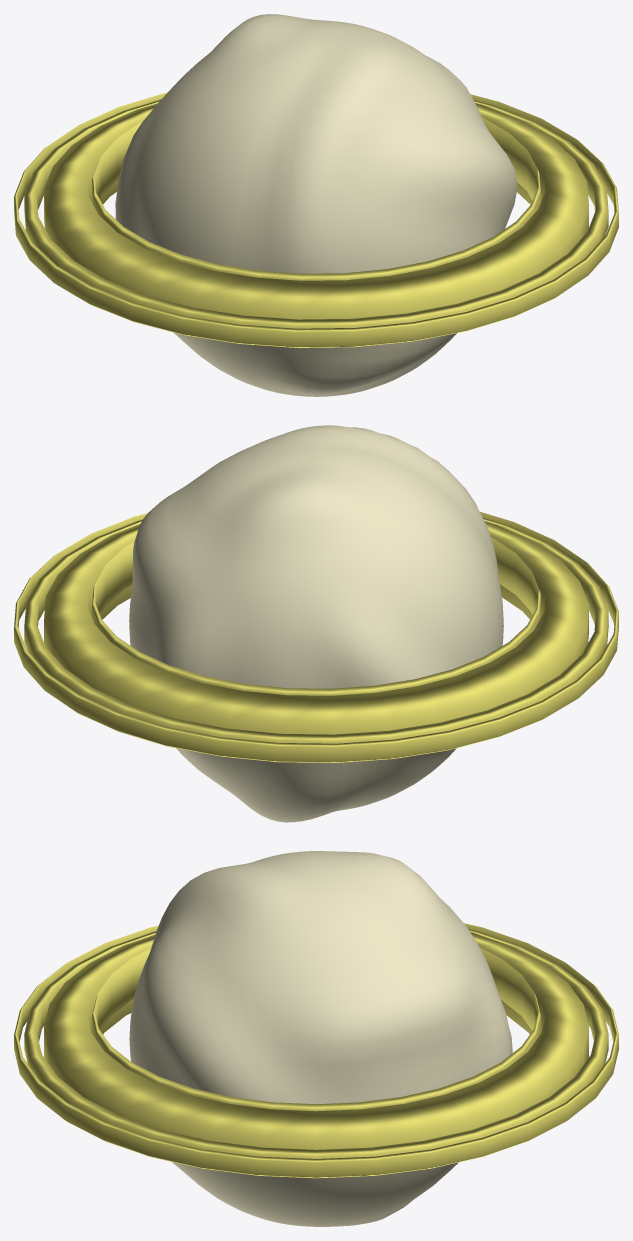
The model's file is Planet 3_ Revelations.fbx.
3 views of the same model, one above another, from view 1: azimuth 30°, elevation 25°; view 2: azimuth 150°, elevation 25°; view 3: azimuth 270°, elevation 25° (orthographic).
Visible parts, largest first — view 1: Planet, Ring; view 2: Planet, Ring; view 3: Planet, Ring.
Part boxes in pixels (x1=…): Planet: x1=115, y1=14, x2=517, y2=396; Ring: x1=14, y1=92, x2=618, y2=347; Planet: x1=129, y1=425, x2=503, y2=822; Ring: x1=14, y1=512, x2=618, y2=762; Planet: x1=129, y1=851, x2=512, y2=1226; Ring: x1=14, y1=923, x2=618, y2=1178.
Bounding box in the file's own units: 3193 × 2006 × 3193.
